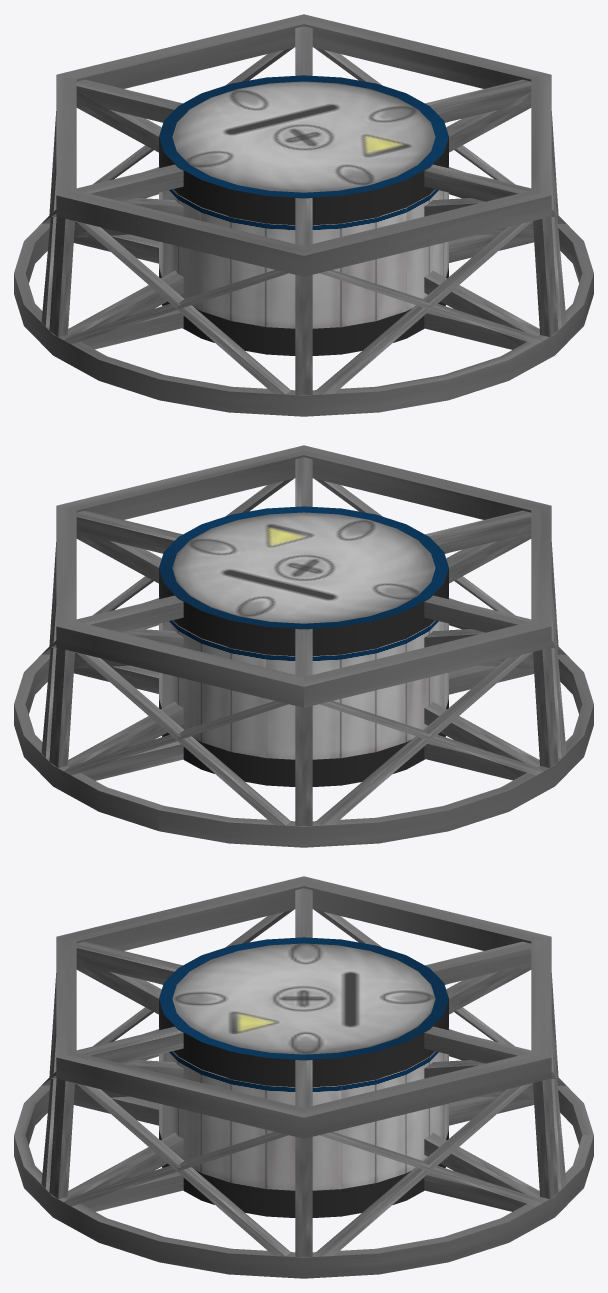
The model's file is HexAdapterA.FBX.
The picture shows the model from 3 angles, top to bottom: view 1: azimuth 30°, elevation 25°; view 2: azimuth 150°, elevation 25°; view 3: azimuth 270°, elevation 25°; orthographic projection.
Visible parts, largest first — view 1: EndCap007, EndBeam002, BottomRing, VestibuleBody, EndCap013, UpperBeam025, UpperBeam022, CrossBeam021, CrossBeam015, UpperBeam016, UpperBeam026, UpperBeam039 (+15 smaller); view 2: EndCap007, EndBeam002, BottomRing, VestibuleBody, EndCap013, UpperBeam025, UpperBeam020, CrossBeam019, CrossBeam013, UpperBeam027, UpperBeam016, UpperBeam039 (+15 smaller); view 3: EndCap007, EndBeam002, BottomRing, VestibuleBody, EndCap013, UpperBeam022, UpperBeam020, CrossBeam023, CrossBeam017, UpperBeam026, UpperBeam027, UpperBeam043 (+15 smaller).
Boxes of the visible parts, left/top/right/bottom form: EndCap007: left=159, top=75, right=448, bottom=224; EndBeam002: left=56, top=14, right=551, bottom=276; BottomRing: left=14, top=167, right=593, bottom=416; VestibuleBody: left=159, top=165, right=448, bottom=328; EndCap013: left=159, top=216, right=448, bottom=355; UpperBeam025: left=76, top=79, right=531, bottom=201; UpperBeam022: left=76, top=79, right=531, bottom=201; CrossBeam021: left=316, top=221, right=532, bottom=394; CrossBeam015: left=76, top=221, right=290, bottom=394; UpperBeam016: left=81, top=231, right=534, bottom=349; UpperBeam026: left=73, top=228, right=520, bottom=349; UpperBeam039: left=49, top=216, right=74, bottom=336; EndCap007: left=159, top=506, right=448, bottom=655; EndBeam002: left=56, top=445, right=551, bottom=707; BottomRing: left=14, top=598, right=593, bottom=847; VestibuleBody: left=159, top=596, right=448, bottom=759; EndCap013: left=159, top=647, right=448, bottom=786; UpperBeam025: left=76, top=510, right=531, bottom=632; UpperBeam020: left=76, top=510, right=531, bottom=632; CrossBeam019: left=316, top=652, right=531, bottom=825; CrossBeam013: left=76, top=652, right=290, bottom=825; UpperBeam027: left=80, top=665, right=534, bottom=780; UpperBeam016: left=73, top=658, right=520, bottom=780; UpperBeam039: left=533, top=647, right=558, bottom=767; EndCap007: left=159, top=937, right=448, bottom=1086; EndBeam002: left=56, top=876, right=551, bottom=1138; BottomRing: left=14, top=1029, right=593, bottom=1278; VestibuleBody: left=159, top=1027, right=448, bottom=1190; EndCap013: left=159, top=1078, right=448, bottom=1217; UpperBeam022: left=76, top=941, right=531, bottom=1063; UpperBeam020: left=76, top=941, right=531, bottom=1063; CrossBeam023: left=316, top=1083, right=531, bottom=1256; CrossBeam017: left=76, top=1083, right=290, bottom=1256; UpperBeam026: left=80, top=1090, right=534, bottom=1211; UpperBeam027: left=73, top=1089, right=520, bottom=1211; UpperBeam043: left=49, top=1078, right=74, bottom=1198.
Size of what is drawn, in the model's own units: 2.5 by 0.7623 by 2.5.
